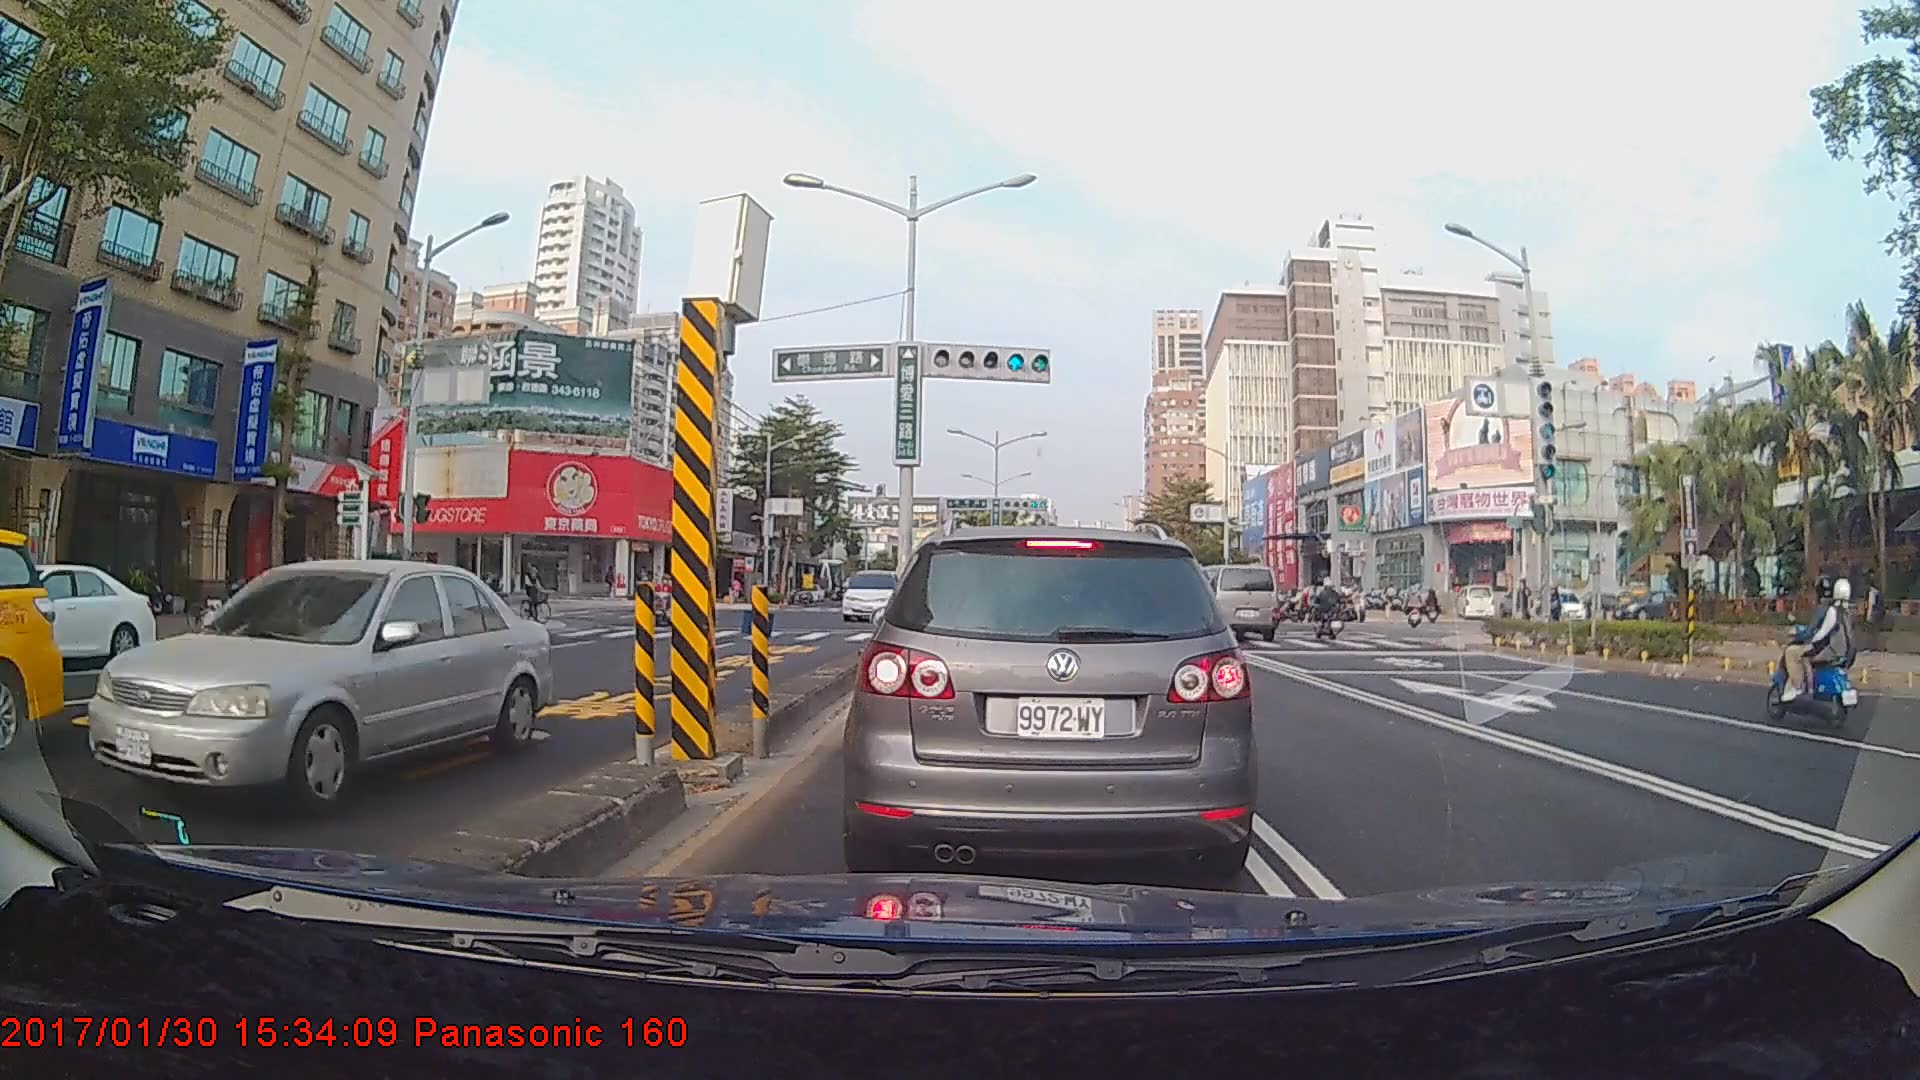pedestrian: (1858, 580, 1885, 654)
rider: (1756, 568, 1864, 736), (1313, 579, 1351, 645), (1400, 582, 1424, 634)
vehicle: (852, 521, 1253, 879), (87, 558, 553, 819), (0, 561, 159, 671), (1172, 561, 1280, 642), (839, 567, 909, 620)
